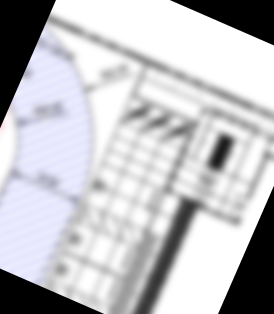double door: (227, 190, 253, 220)
